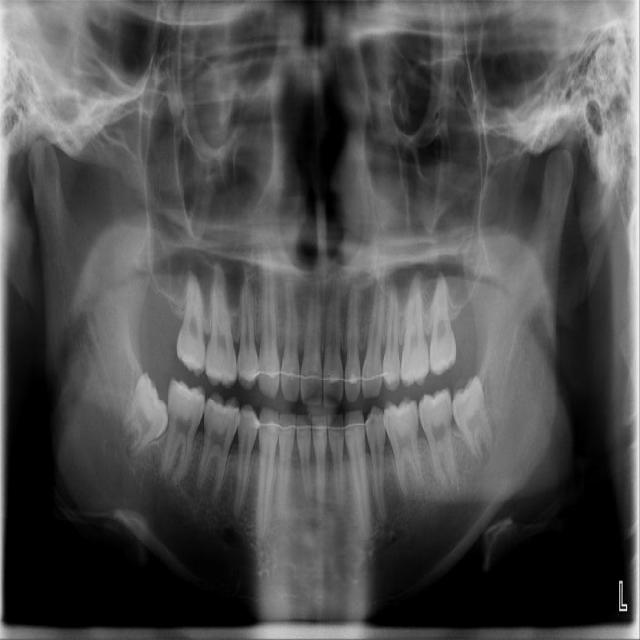impacted tooth: (118, 374, 168, 457), (451, 375, 491, 463)
